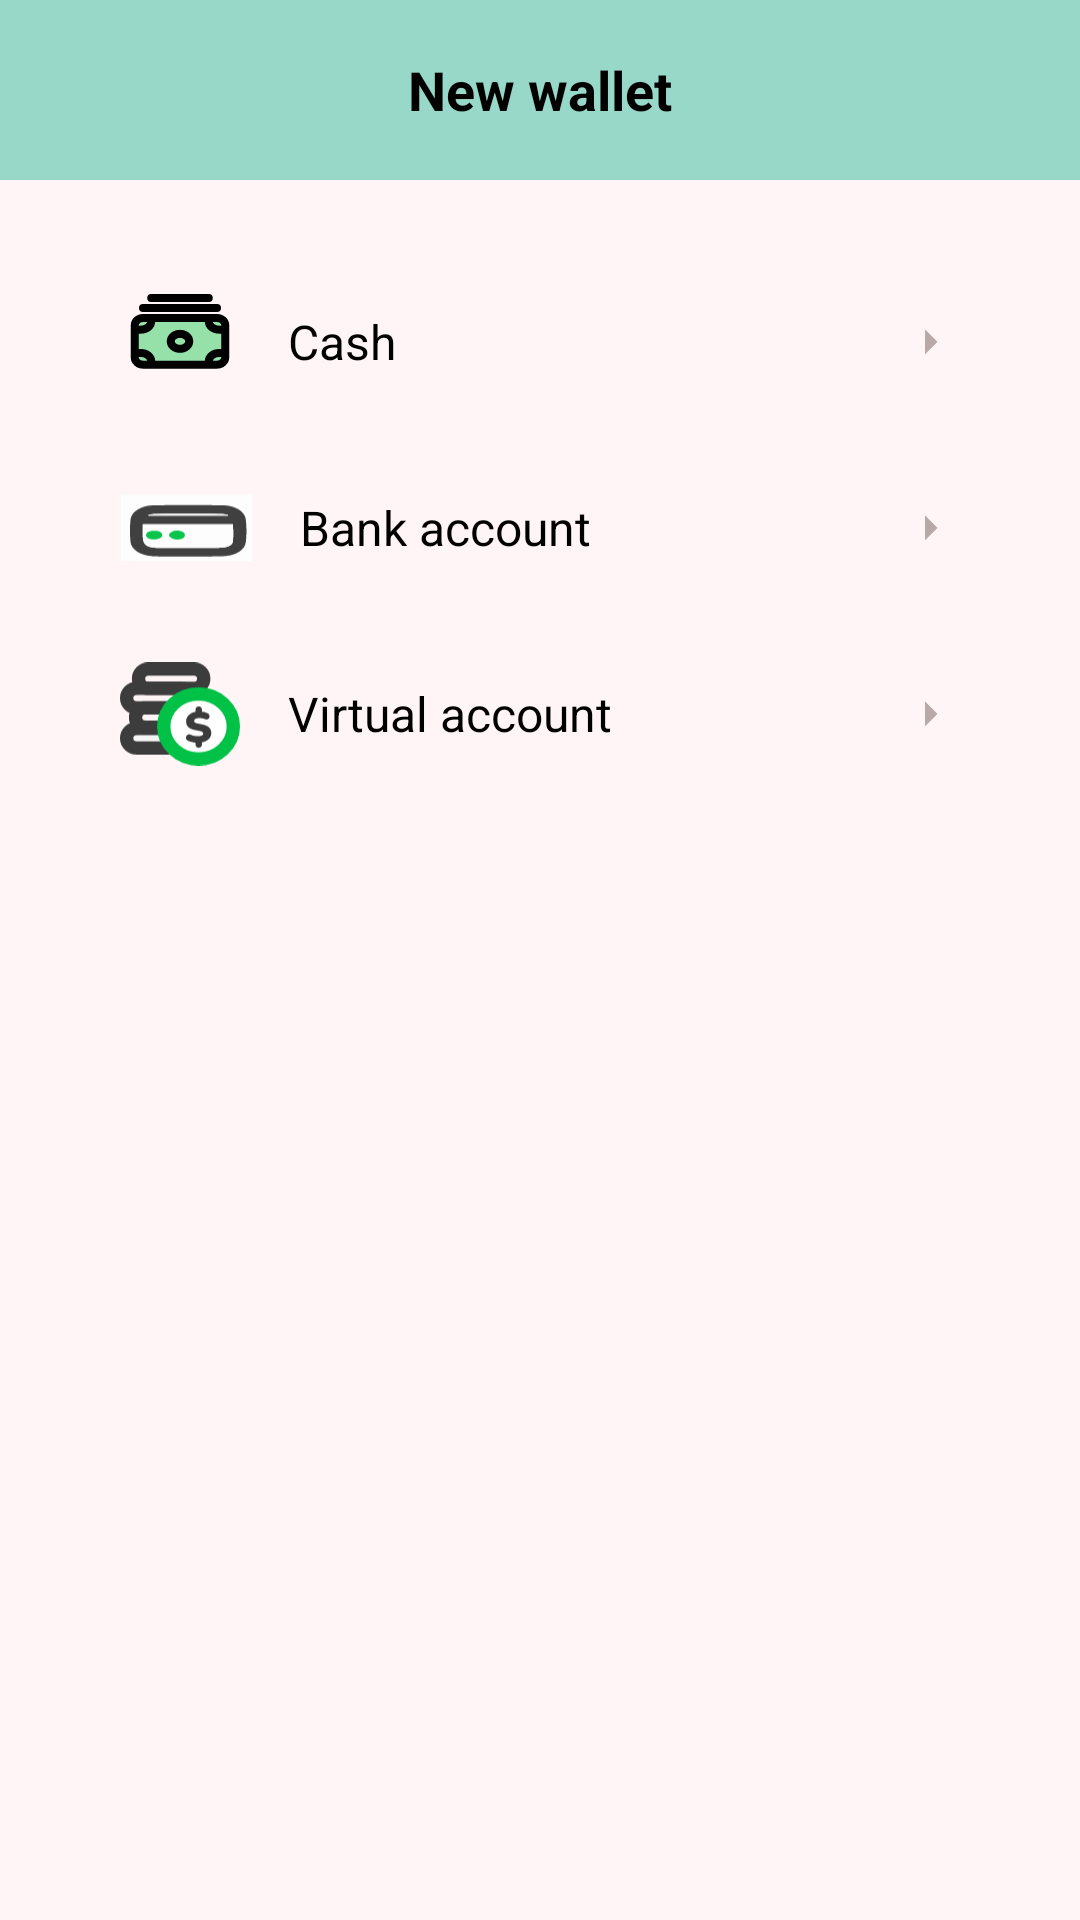

Point at icon controls on the screen. Image size 1080 × 1920, points as [x,y].
bankcard: [188,530]
money bundle: [180,331]
